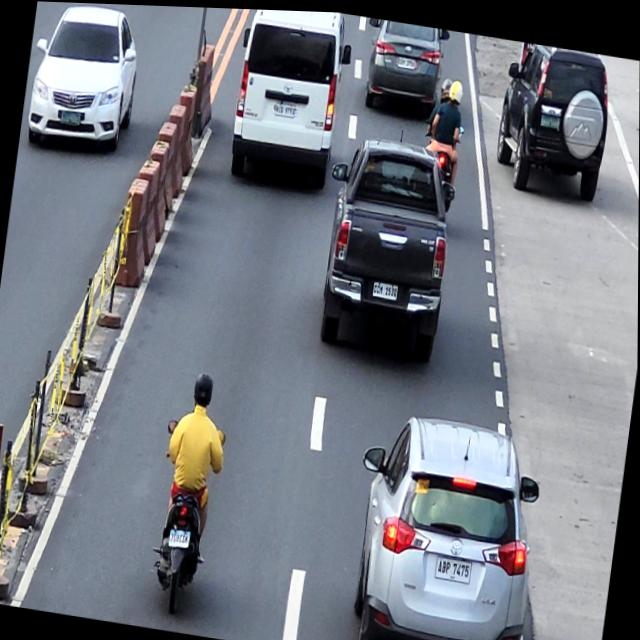Car: (337, 400, 549, 640), (308, 126, 461, 360), (225, 7, 355, 188), (491, 36, 616, 198), (23, 1, 144, 157), (357, 14, 450, 116)
License-Plate: (433, 549, 474, 582), (372, 277, 399, 299), (168, 527, 191, 549), (273, 99, 296, 117), (59, 107, 81, 125), (539, 107, 561, 125), (397, 52, 417, 68)
Motorcycle: (143, 415, 228, 618), (415, 116, 465, 215)
